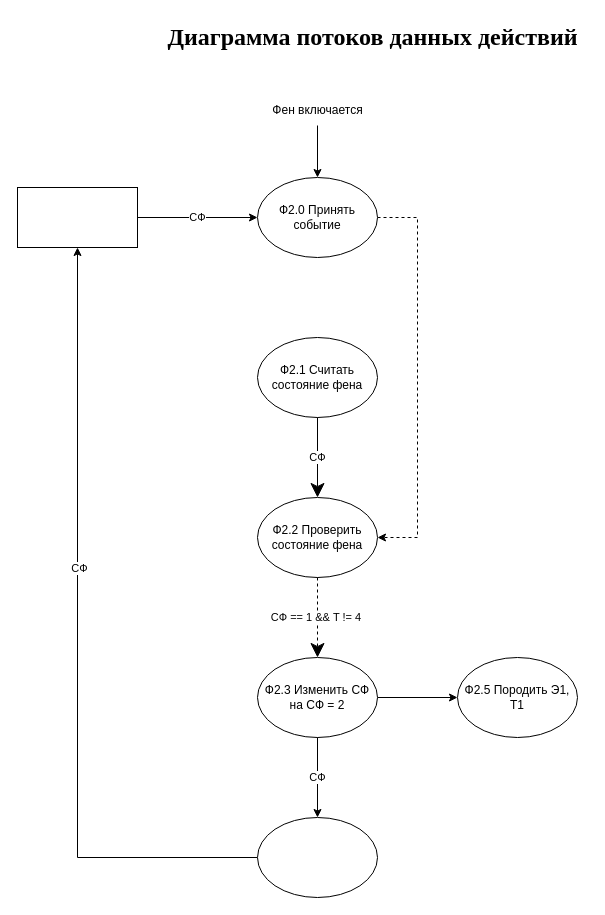
Some shapes in this 605 by 915 pixel diagram are drawn without their labels. Here are the shapes that lost their labels. From the top down, the centre of each, then its label:
At point 77,217: "Фен".
At point 317,857: "Ф2.4 Записать СФ".
